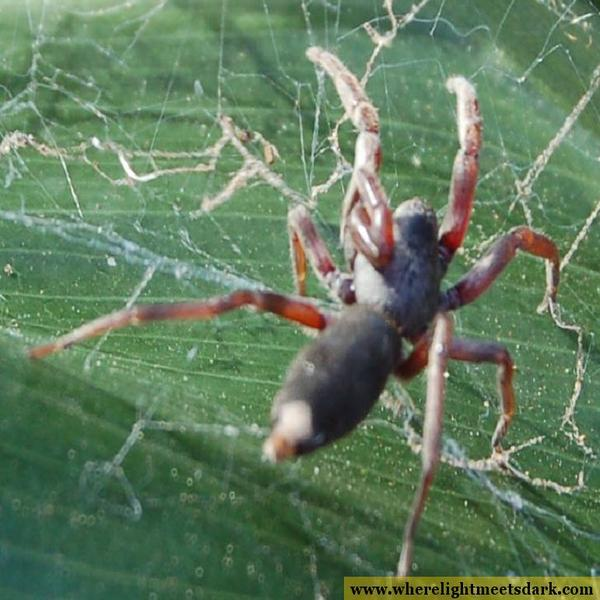White-Tailed Spider: (114, 54, 562, 553)
